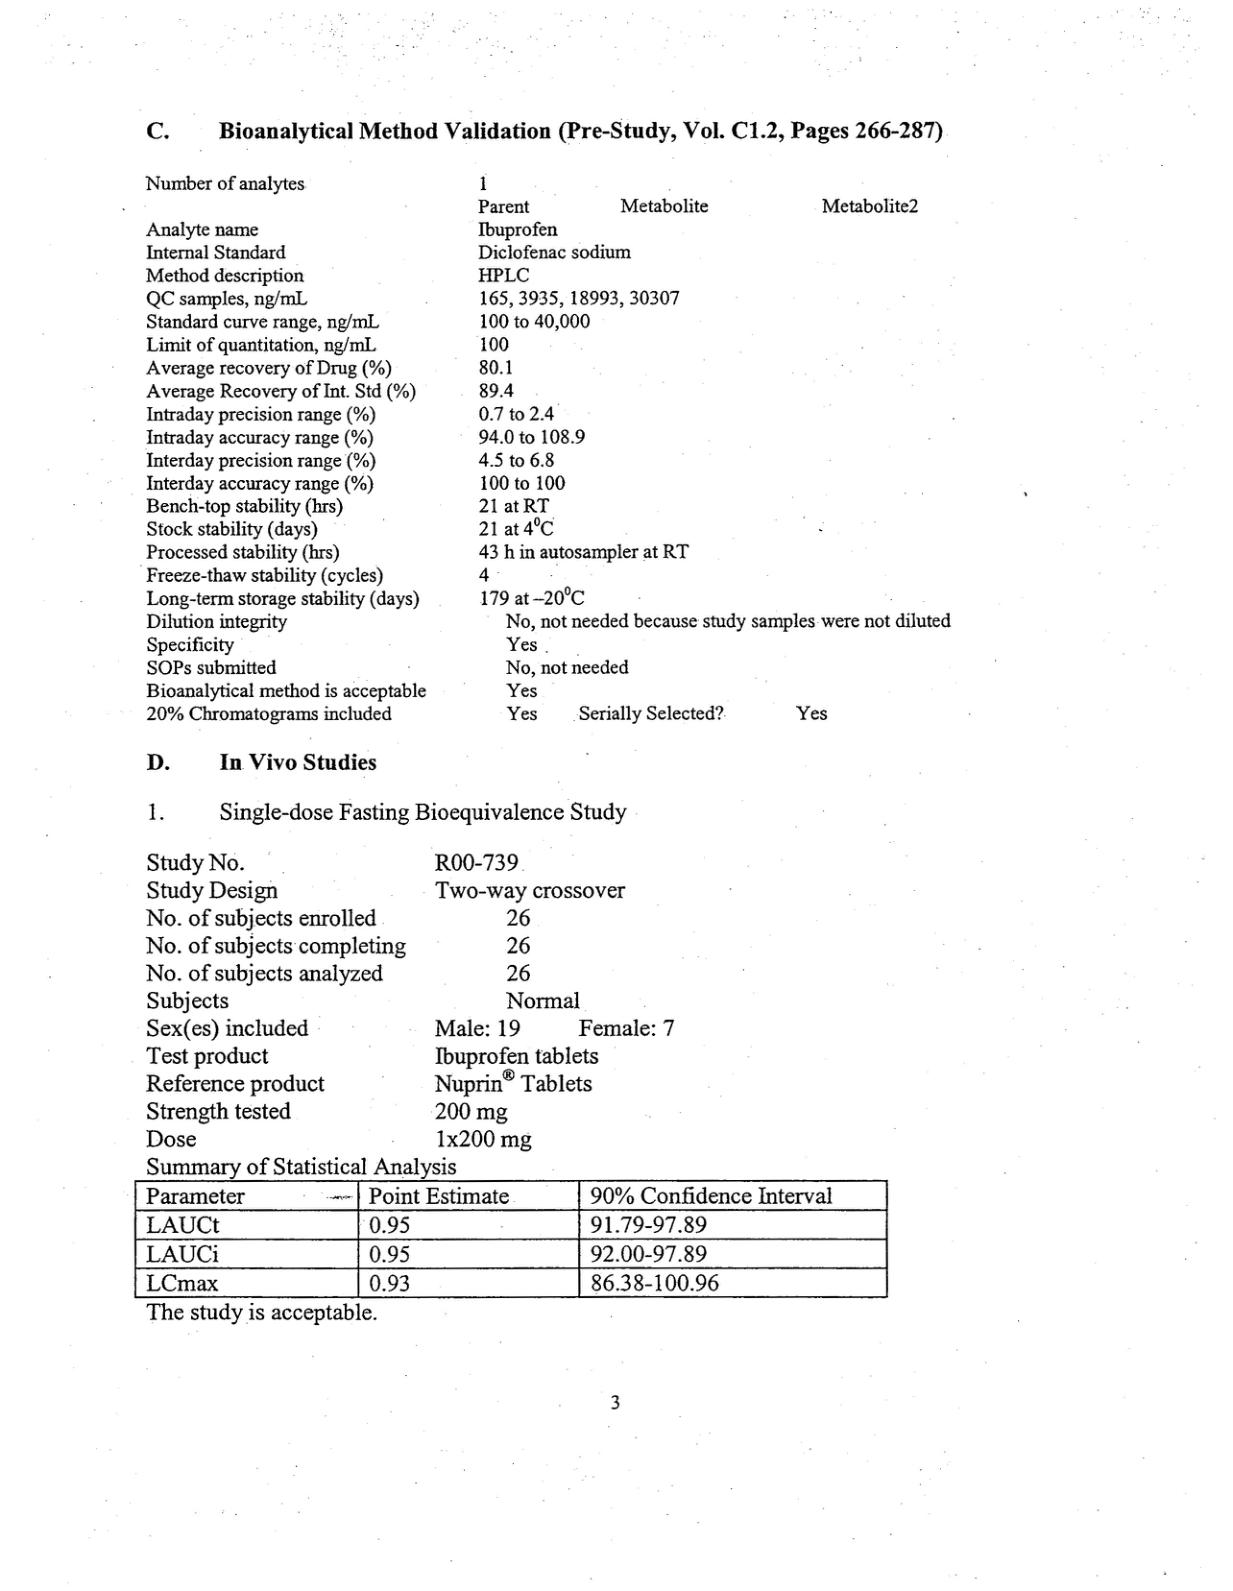full_lined: (133, 1178, 890, 1299)
nolines: (143, 172, 957, 722), (145, 848, 679, 1151)
